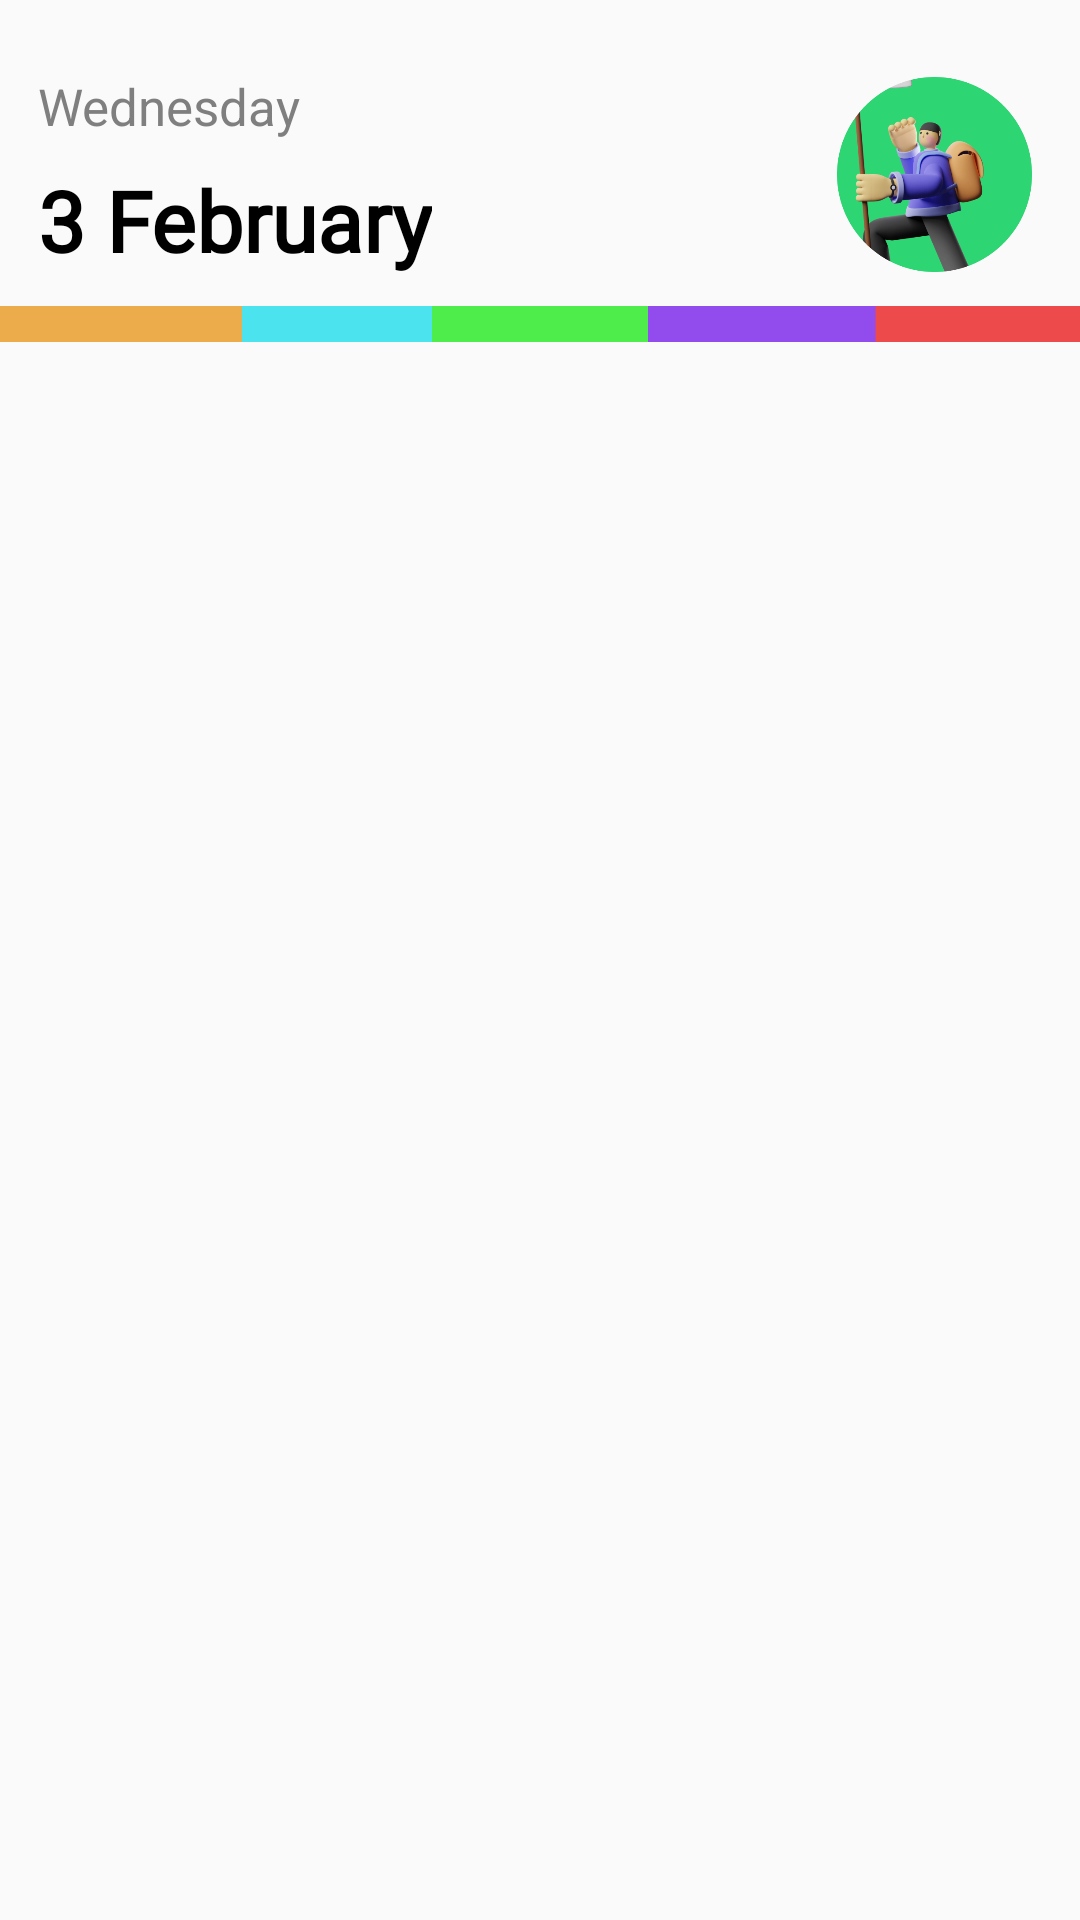

Icons on this 1080px x 1920px Android screen, each with its box as rect(x1, y1, x2, y2):
profile: rect(837, 77, 1032, 272)
